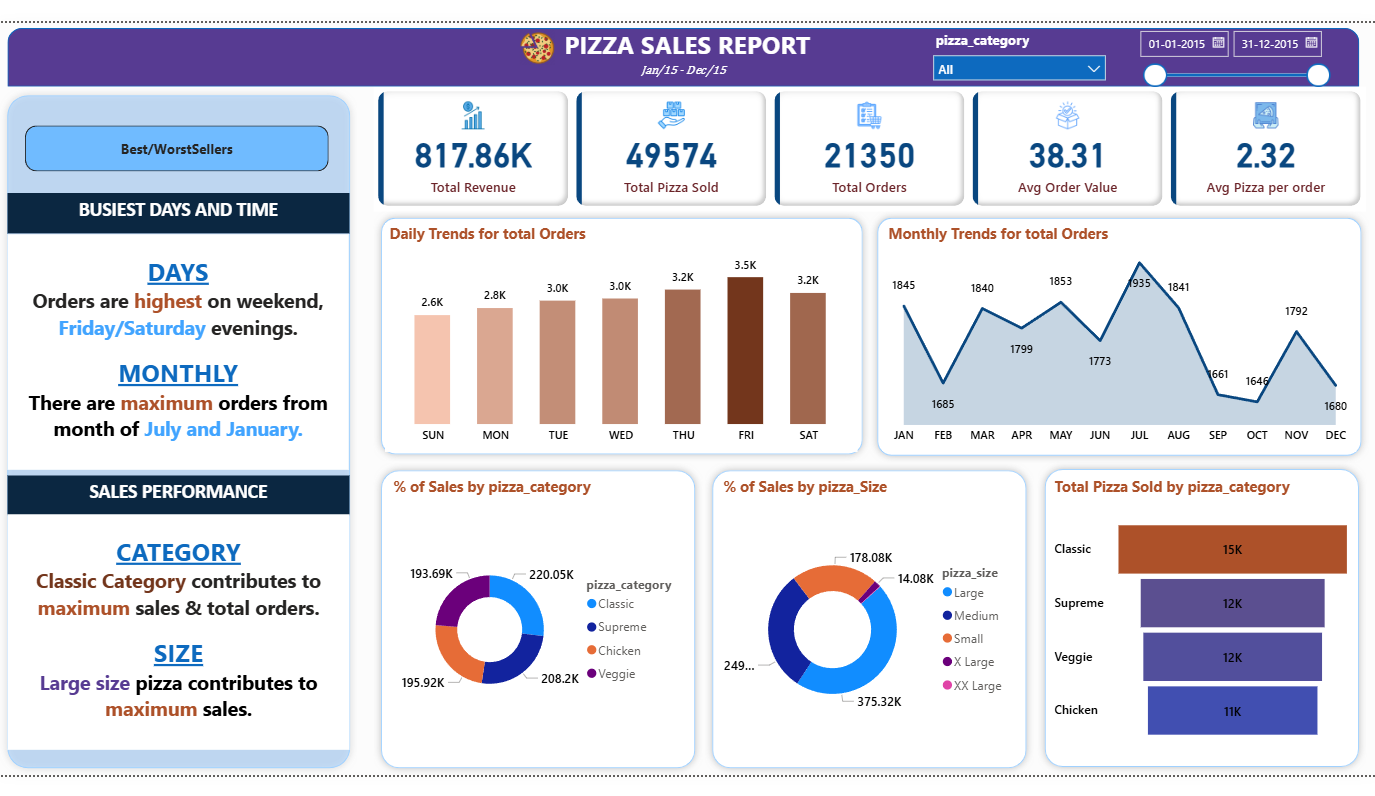

This screenshot's page, from the dashboard's own definition file:
{"tool":"powerbi","page":{"name":"HomeDashboard","canvas":[1500,820],"ordinal":0},"visuals":[{"type":"cardVisual","fields":{"Data":["pizza_sales.Total_Revenue","pizza_sales.Total_Quantity","pizza_sales.Total_Orders","pizza_sales.Avg_Order_Value","pizza_sales.Avg Pizza per order"]},"box":[407.5,69.4,1081.9,135.6],"z":0},{"type":"shape","box":[8.3,5.6,1473.6,63.9],"z":1000},{"type":"textbox","box":[610.5,0,295.7,46.3],"z":2000},{"type":"textbox","box":[693.6,36.8,115.8,43.6],"z":3000},{"type":"image","box":[561.4,0,49.1,53.1],"z":4000},{"type":"shape","box":[407.4,204.4,541,273.9],"z":5000},{"type":"columnChart","title":"Daily Trends for total Orders","fields":{"Category":["pizza_sales.Order Day"],"Y":["pizza_sales.Total Orders"]},"box":[419.7,218,515.1,249.4],"z":6000},{"type":"shape","box":[0,70.9,389.7,749.5],"z":7000},{"type":"shape","box":[948.4,204.4,543.7,275.3],"z":8000},{"type":"areaChart","title":"Monthly Trends for total Orders","fields":{"Category":["pizza_sales.Order Month"],"Y":["pizza_sales.Total Orders"]},"box":[963.4,218,515.1,249.4],"z":9000},{"type":"shape","box":[1131,478.3,358.4,340.7],"z":10000},{"type":"shape","box":[407.4,479.7,358.4,340.7],"z":11000},{"type":"shape","box":[768.5,479.7,358.4,340.7],"z":12000},{"type":"donutChart","title":"% of Sales by pizza_category","fields":{"Category":["pizza_sales.pizza_category"],"Y":["pizza_sales.Total Revenue"]},"box":[423.8,493.3,328.4,314.8],"z":13000},{"type":"donutChart","title":"% of Sales by pizza_Size","fields":{"Y":["pizza_sales.Total Revenue"],"Category":["pizza_sales.pizza_size"]},"box":[783.5,493.3,328.4,314.8],"z":14000},{"type":"funnel","fields":{"Category":["pizza_sales.pizza_category"],"Y":["pizza_sales.Total Pizza Sold"]},"box":[1144.6,493.3,333.8,314.8],"z":15000},{"type":"textbox","box":[8.6,185.5,372.5,43.8],"z":16000},{"type":"textbox","box":[8.6,230,372,257],"z":17000},{"type":"textbox","box":[8.6,492.9,372.9,42.9],"z":18000},{"type":"textbox","box":[8.6,535.7,372.9,257.1],"z":19000},{"type":"slicer","fields":{"Values":["pizza_sales.pizza_category"]},"box":[1006.9,4,208.3,58.3],"z":20000},{"type":"slicer","fields":{"Values":["pizza_sales.order_date"]},"box":[1230.4,0,227.5,79.7],"z":21000},{"type":"pageNavigator","box":[27.5,111.6,331.9,50.7],"z":22000}]}

Visuals, with their boxes on the page's 1500x820 design canvas (x1, y1, x2, y2). These are canvas units, not pixel positions in the 1375x796 screenshot, which may show the page scaled, cropped or inside an application window:
cardVisual - pizza_sales.Total_Revenue x pizza_sales.Total_Quantity: box=[408, 69, 1489, 205]
shape: box=[8, 6, 1482, 70]
textbox: box=[610, 0, 906, 46]
textbox: box=[694, 37, 809, 80]
image: box=[561, 0, 610, 53]
shape: box=[407, 204, 948, 478]
"Daily Trends for total Orders" columnChart: box=[420, 218, 935, 467]
shape: box=[0, 71, 390, 820]
shape: box=[948, 204, 1492, 480]
"Monthly Trends for total Orders" areaChart: box=[963, 218, 1478, 467]
shape: box=[1131, 478, 1489, 819]
shape: box=[407, 480, 766, 820]
shape: box=[768, 480, 1127, 820]
"% of Sales by pizza_category" donutChart: box=[424, 493, 752, 808]
"% of Sales by pizza_Size" donutChart: box=[784, 493, 1112, 808]
funnel - pizza_sales.pizza_category x pizza_sales.Total Pizza Sold: box=[1145, 493, 1478, 808]
textbox: box=[9, 186, 381, 229]
textbox: box=[9, 230, 381, 487]
textbox: box=[9, 493, 382, 536]
textbox: box=[9, 536, 382, 793]
slicer - pizza_sales.pizza_category: box=[1007, 4, 1215, 62]
slicer - pizza_sales.order_date: box=[1230, 0, 1458, 80]
pageNavigator: box=[28, 112, 359, 162]
